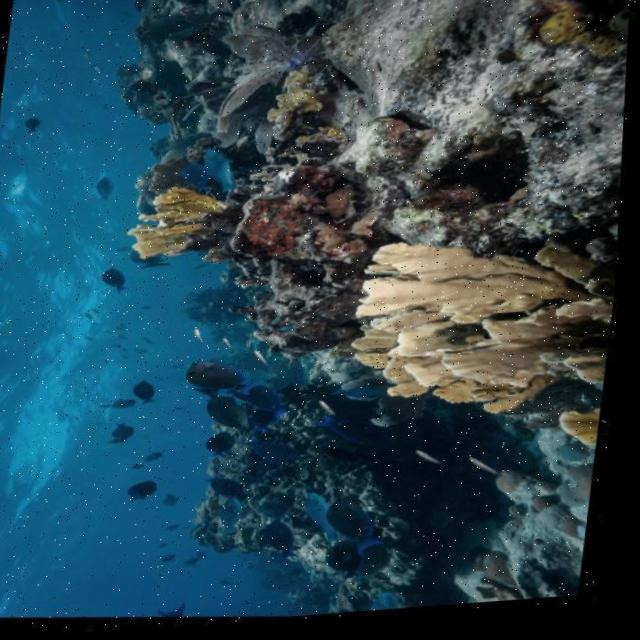Healthy Coral: (335, 238, 624, 428), (131, 184, 227, 266)
